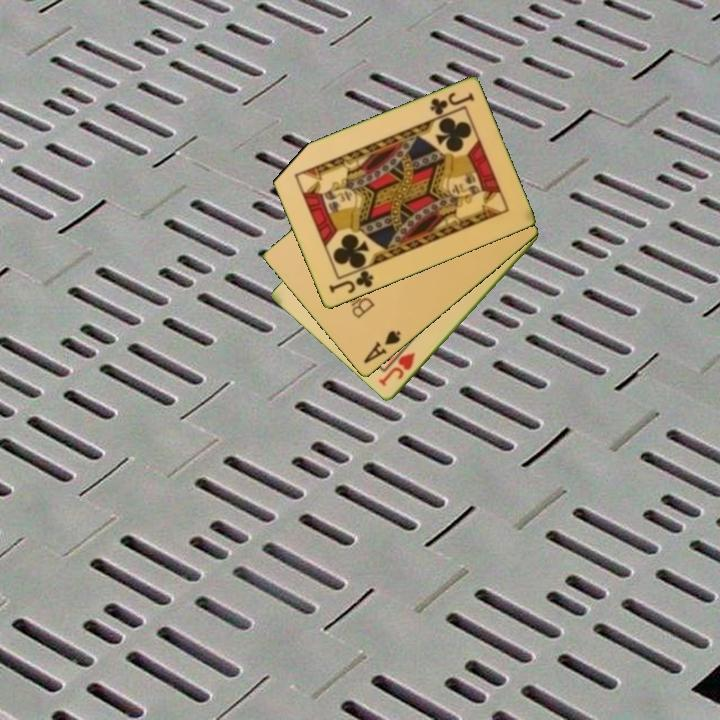As: (360, 327, 404, 367)
Jc: (325, 267, 376, 297), (426, 89, 477, 119)
Jh: (375, 349, 418, 390)
